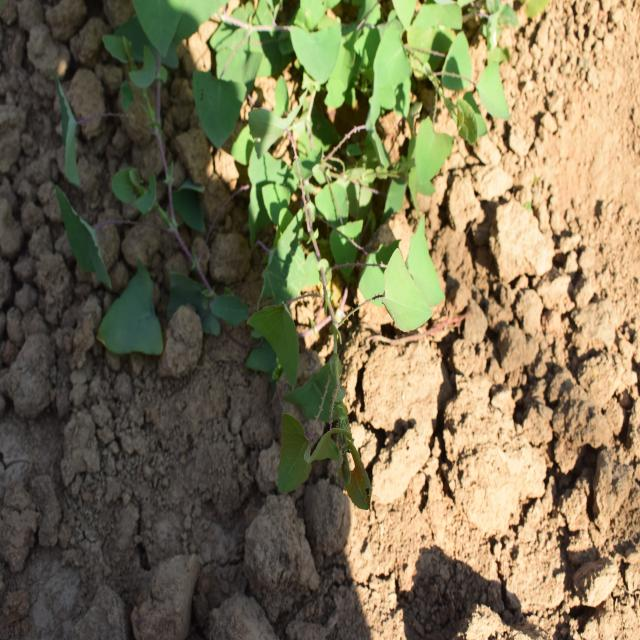Asiatic_Smartweed: (244, 192, 429, 503), (325, 9, 502, 177)
